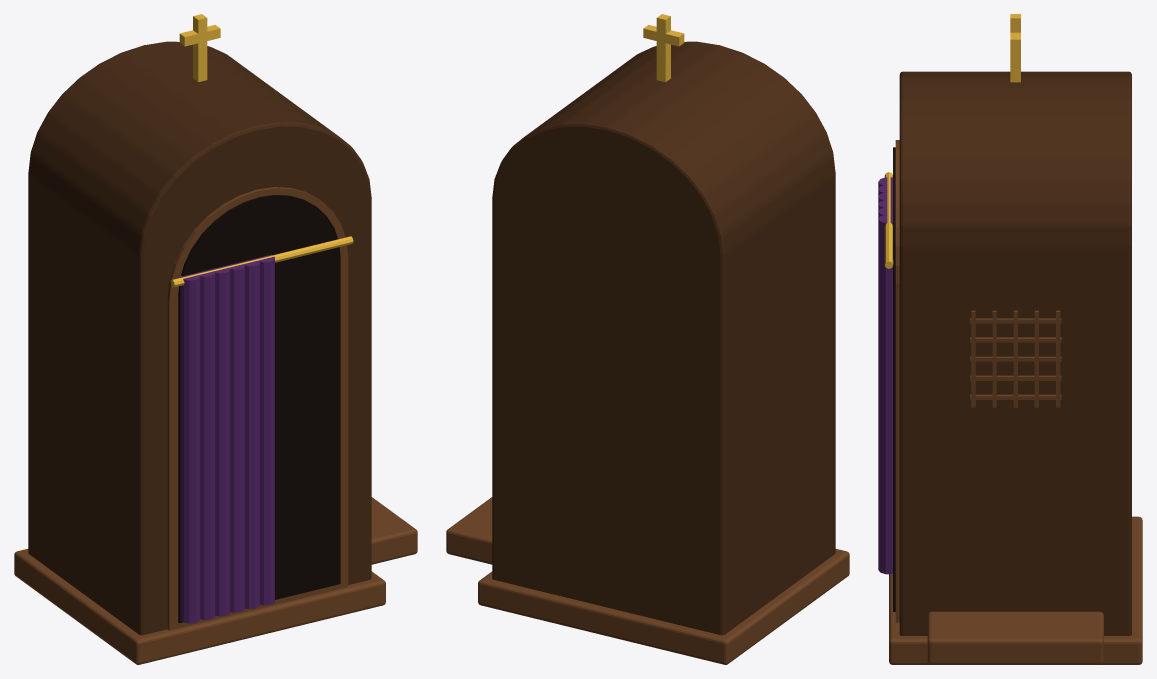
The model's file is confesionario.glb.
3 views of the same model, side by side, from view 1: azimuth 30°, elevation 25°; view 2: azimuth 150°, elevation 25°; view 3: azimuth 270°, elevation 25° (orthographic). The views are drawn at different scales.
Parts seen in each view (by area): view 1: caseta, hueco, zocalo, marco, pliegue0, pliegue1, pliegue2, pliegue4, pliegue5, pliegue3, reclinatorio, barra (+1 smaller); view 2: caseta, zocalo, reclinatorio, cruz_v; view 3: caseta, reclinatorio, pliegue5, zocalo, marco, hueco, barra, cruz_v, celosia_h4, celosia_h3, celosia_h1, celosia_h2 (+6 smaller).
Boxes of the visible parts, x1,y1,x2,y2 form: caseta: (28,41,371,635); hueco: (178,195,340,622); zocalo: (14,549,385,664); marco: (167,187,348,630); pliegue0: (180,273,200,623); pliegue1: (195,269,215,619); pliegue2: (212,265,230,616); pliegue4: (240,258,259,608); pliegue5: (257,254,274,605); pliegue3: (227,262,245,612); reclinatorio: (371,497,417,564); barra: (170,236,353,287); caseta: (492,41,835,635); zocalo: (478,549,849,664); reclinatorio: (446,497,492,564); cruz_v: (656,14,670,82); caseta: (899,71,1131,635); reclinatorio: (927,611,1103,664); pliegue5: (878,215,892,574); zocalo: (889,516,1142,664); marco: (895,140,899,622); hueco: (893,147,895,611); barra: (884,172,893,268); cruz_v: (1010,14,1020,82); celosia_h4: (970,318,1061,323); celosia_h3: (970,337,1061,342); celosia_h1: (970,375,1061,380); celosia_h2: (970,356,1061,361).
Size of the model in its own units: 0.909 by 1.66 by 0.675.
